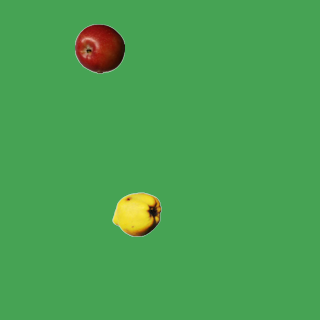Apple Braeburn: (74, 23, 124, 73)
Quince: (111, 189, 161, 239)
